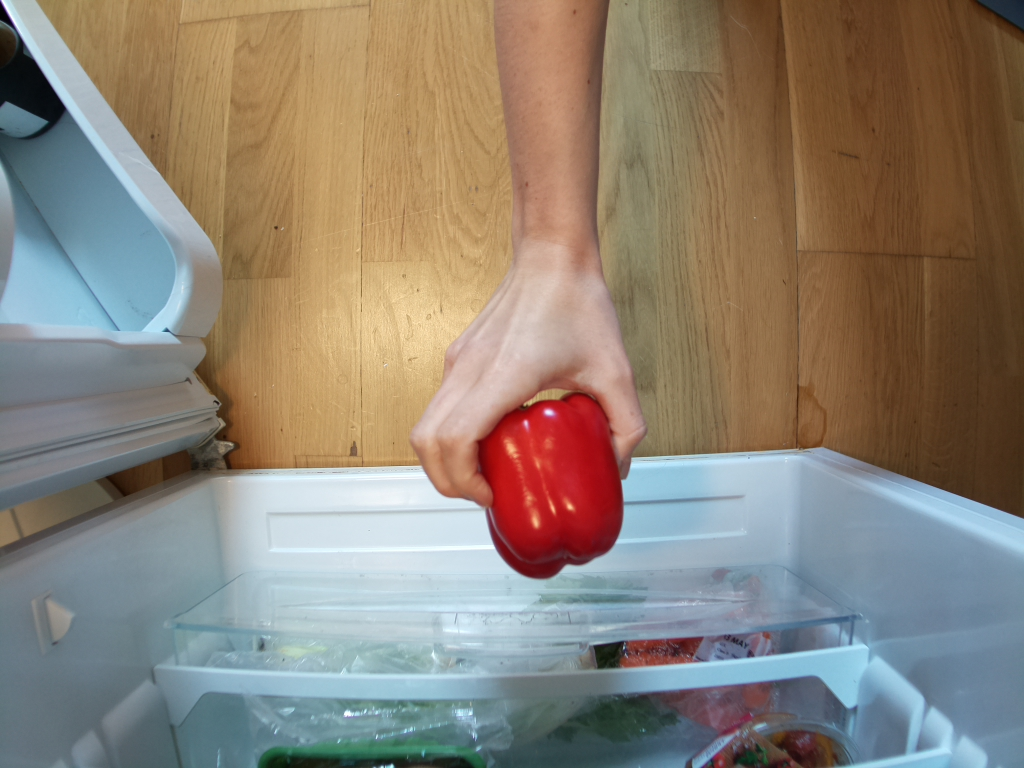pepper: (475, 394, 627, 579)
